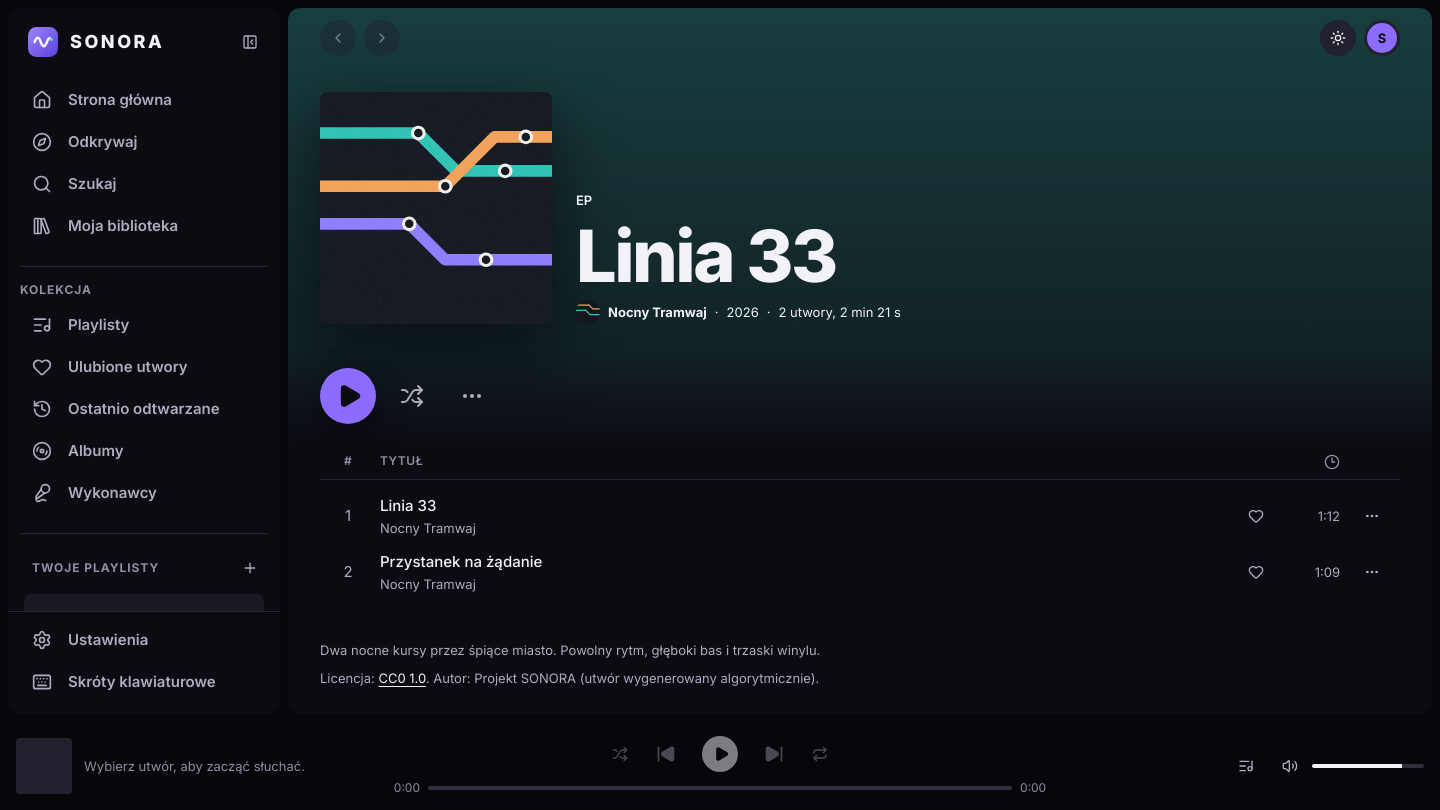
Scenario: ulubione utwory › pozwala cofnąć usunięcie z ulubionych
Click the button named "Dodaj „Linia 33” do ulubionych" at (1256, 516), box [1238,498,1274,534]
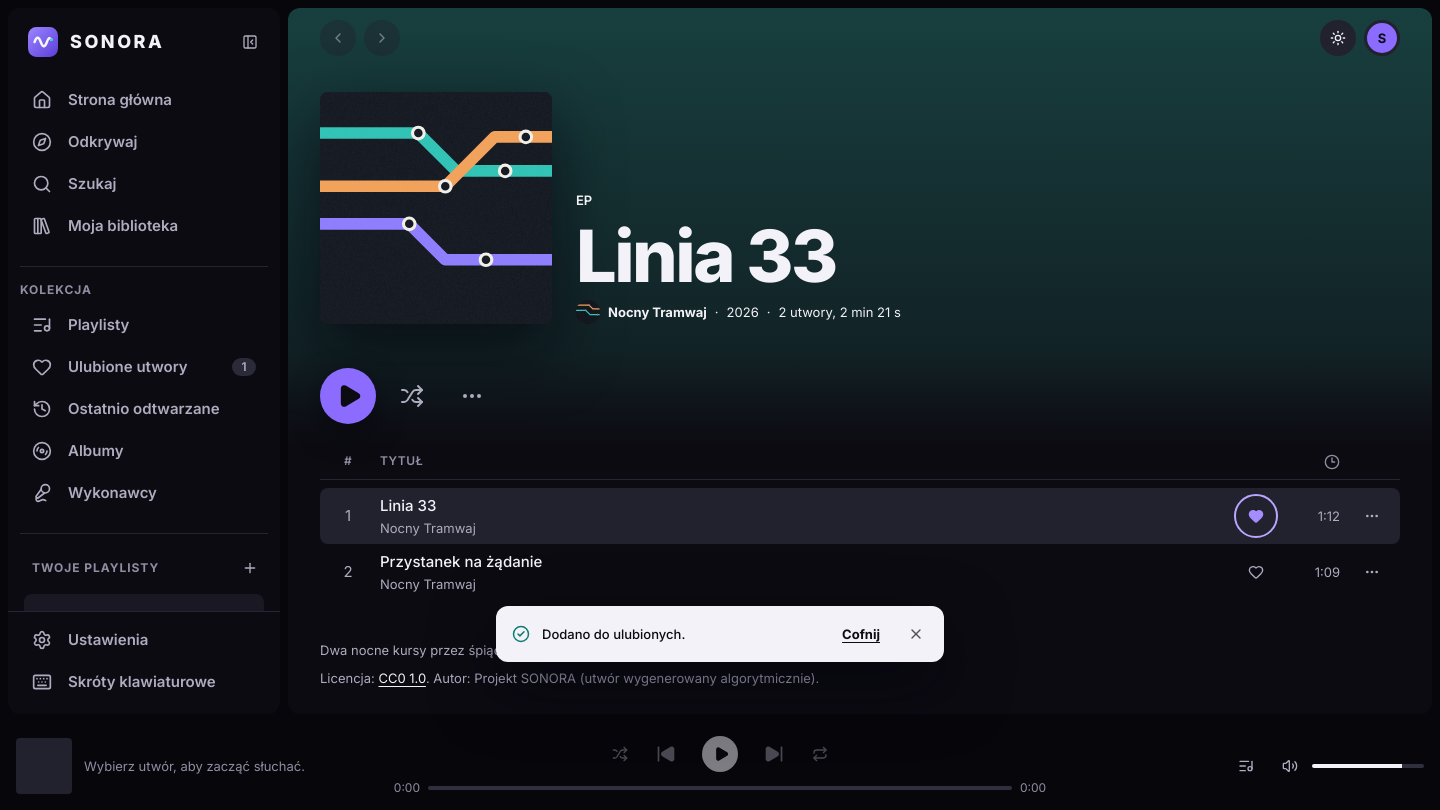
Click the button named "Usuń „Linia 33” z ulubionych" at (1256, 516), box [1238,498,1274,534]
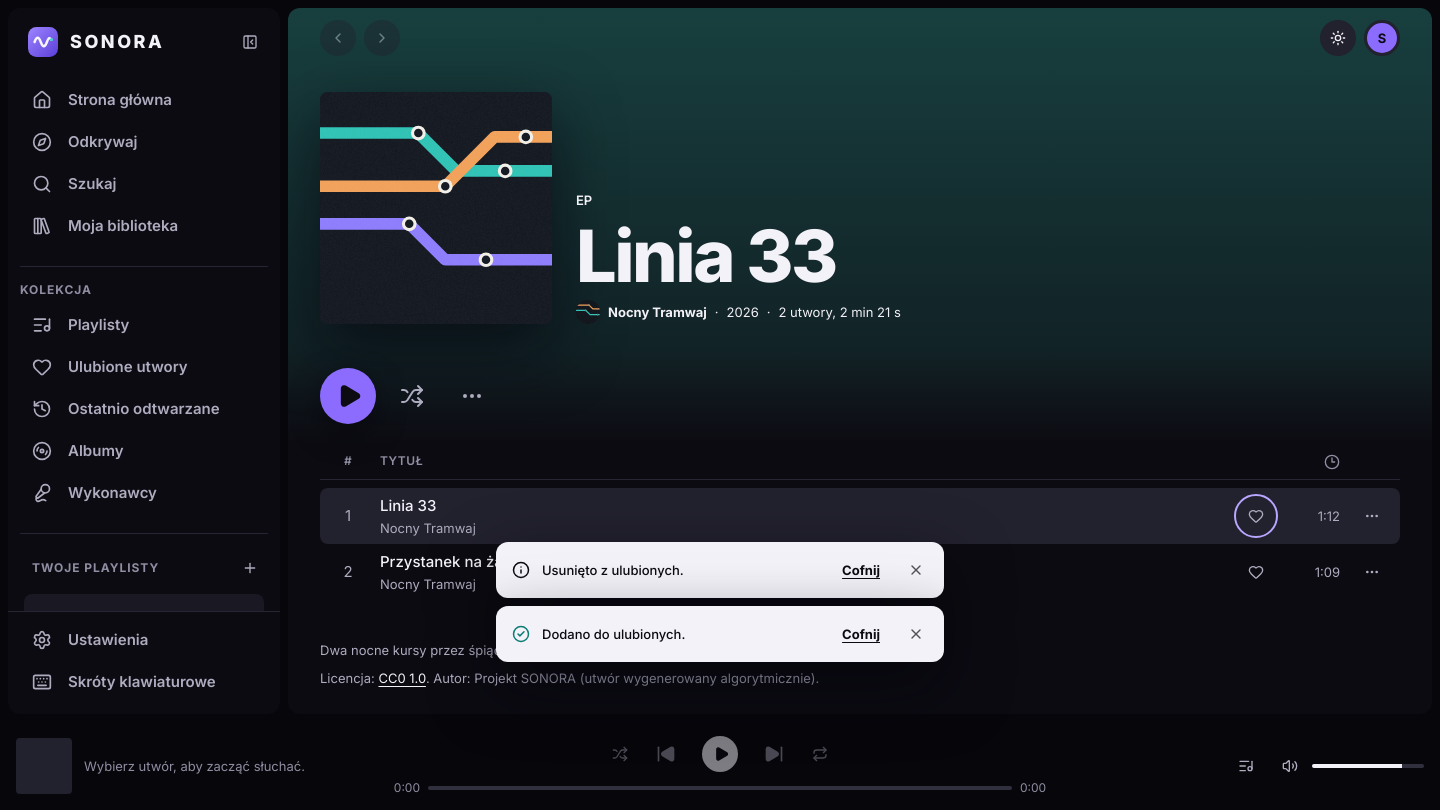
Click the button "Cofnij" next to "Usunięto z ulubionych." at (861, 570), box [834,556,888,584]
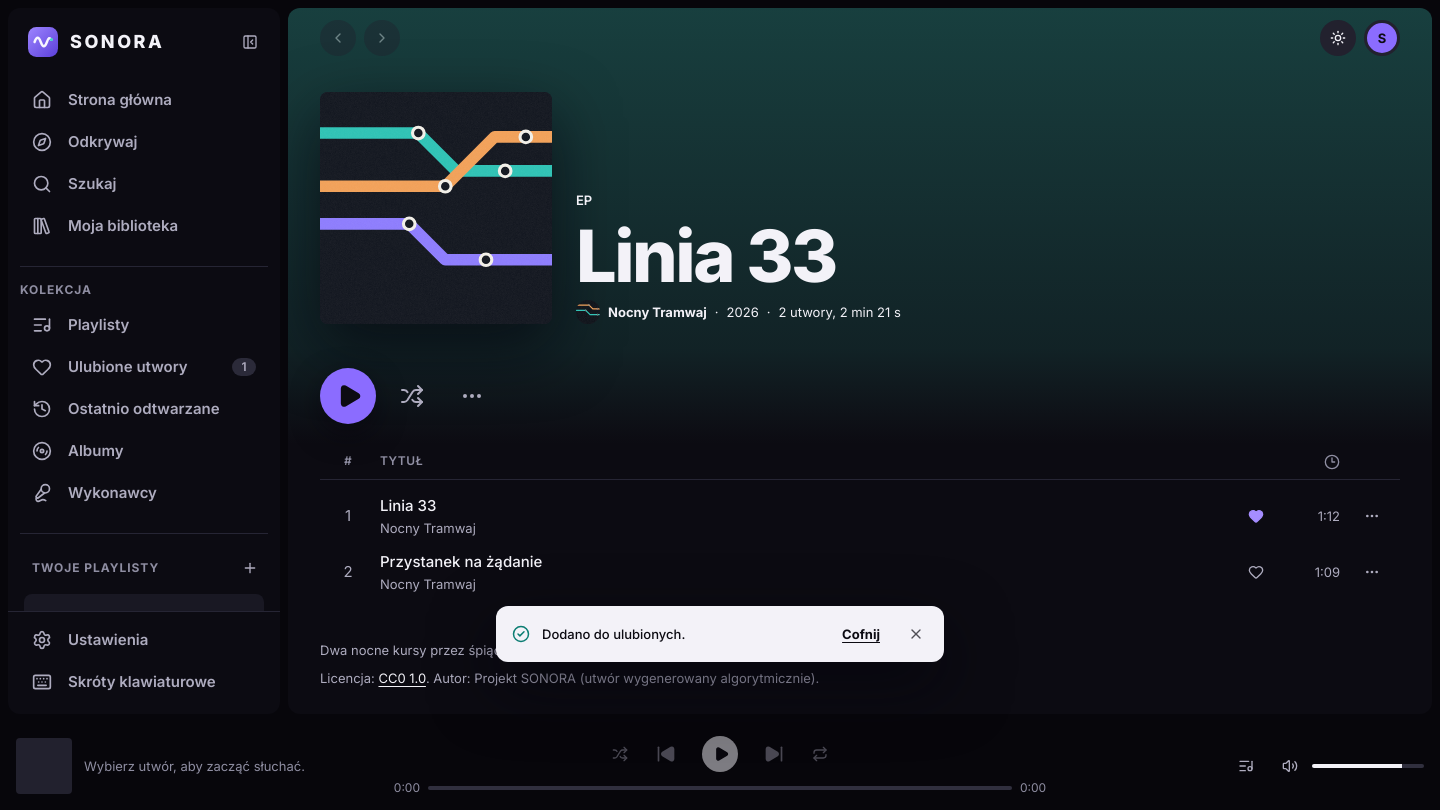
Now the button named "Usuń „Linia 33” z ulubionych" is shown, box [1238,498,1274,534]
